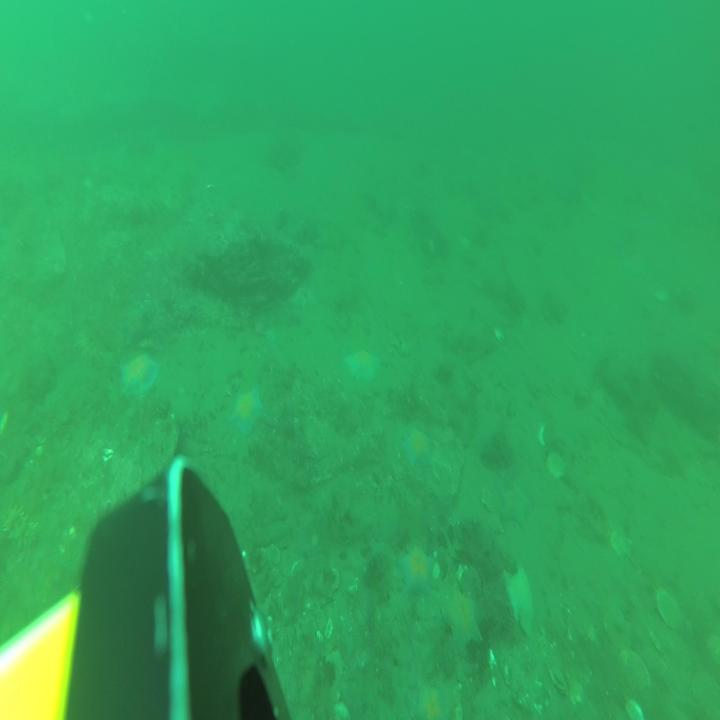scallop: (657, 583, 682, 629), (610, 523, 633, 559), (319, 567, 340, 598), (547, 448, 565, 480)
starfish: (444, 590, 483, 651), (399, 544, 433, 598), (120, 353, 159, 397), (231, 385, 262, 435), (402, 425, 432, 467), (345, 346, 380, 382), (415, 684, 447, 720)
